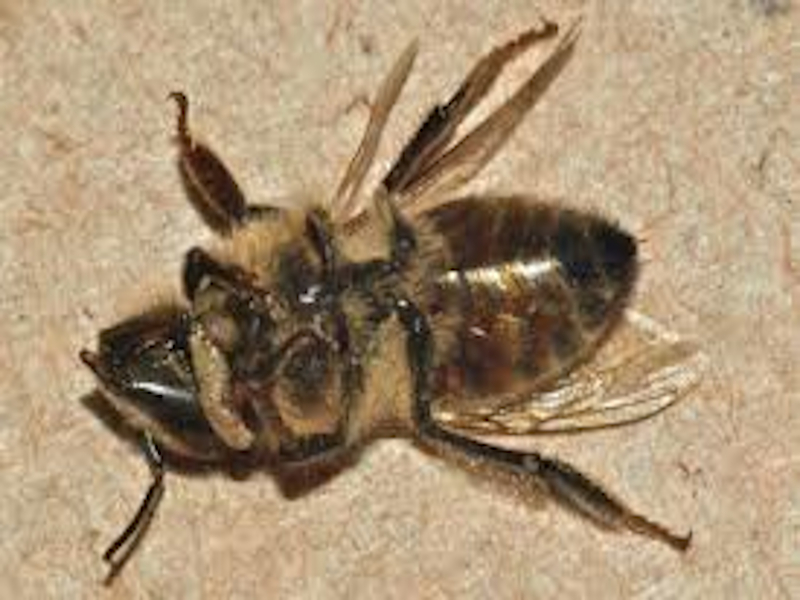abeja: (49, 7, 751, 571)
